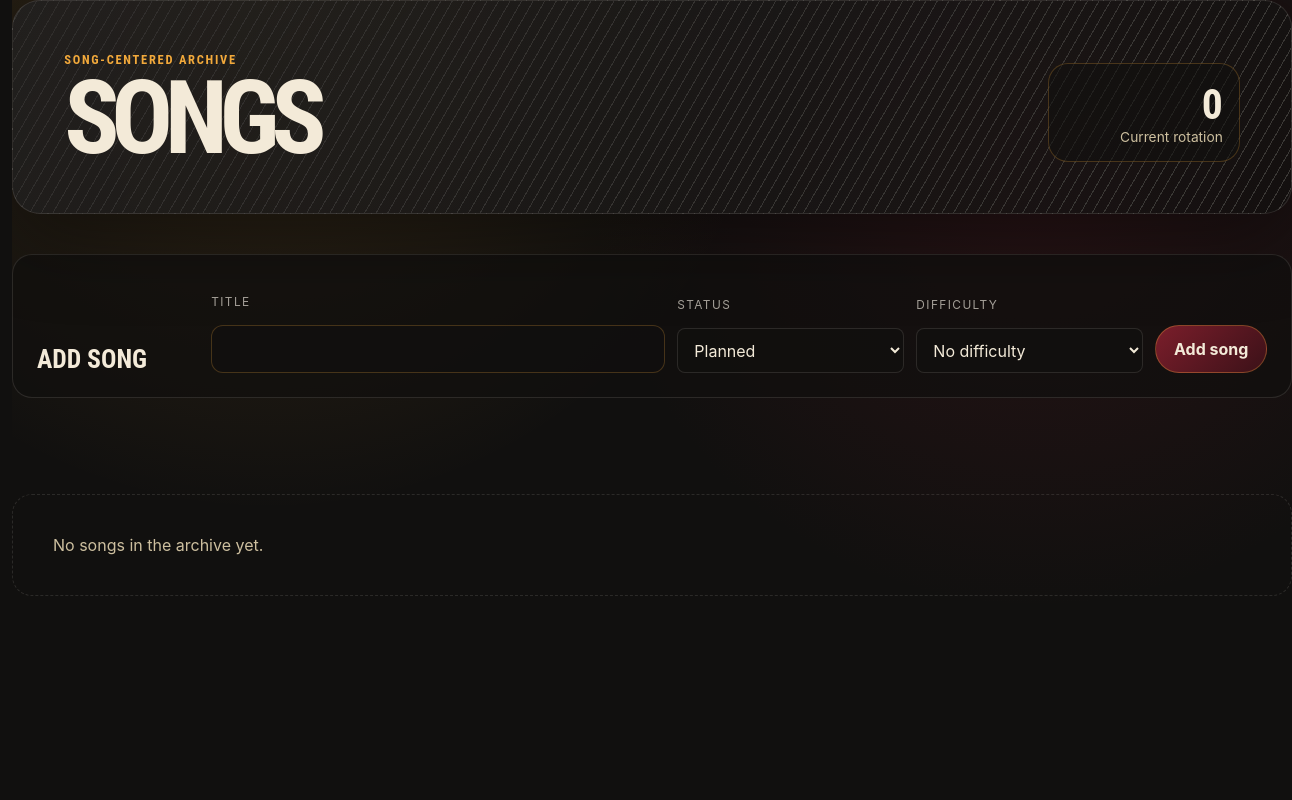
Test: SongListPage › creates a song and refreshes the list
The image size is (1292, 800).
Step 1. Type "Little Wing" into the field labelled "Title" → (438, 349), box [211,325,665,373]
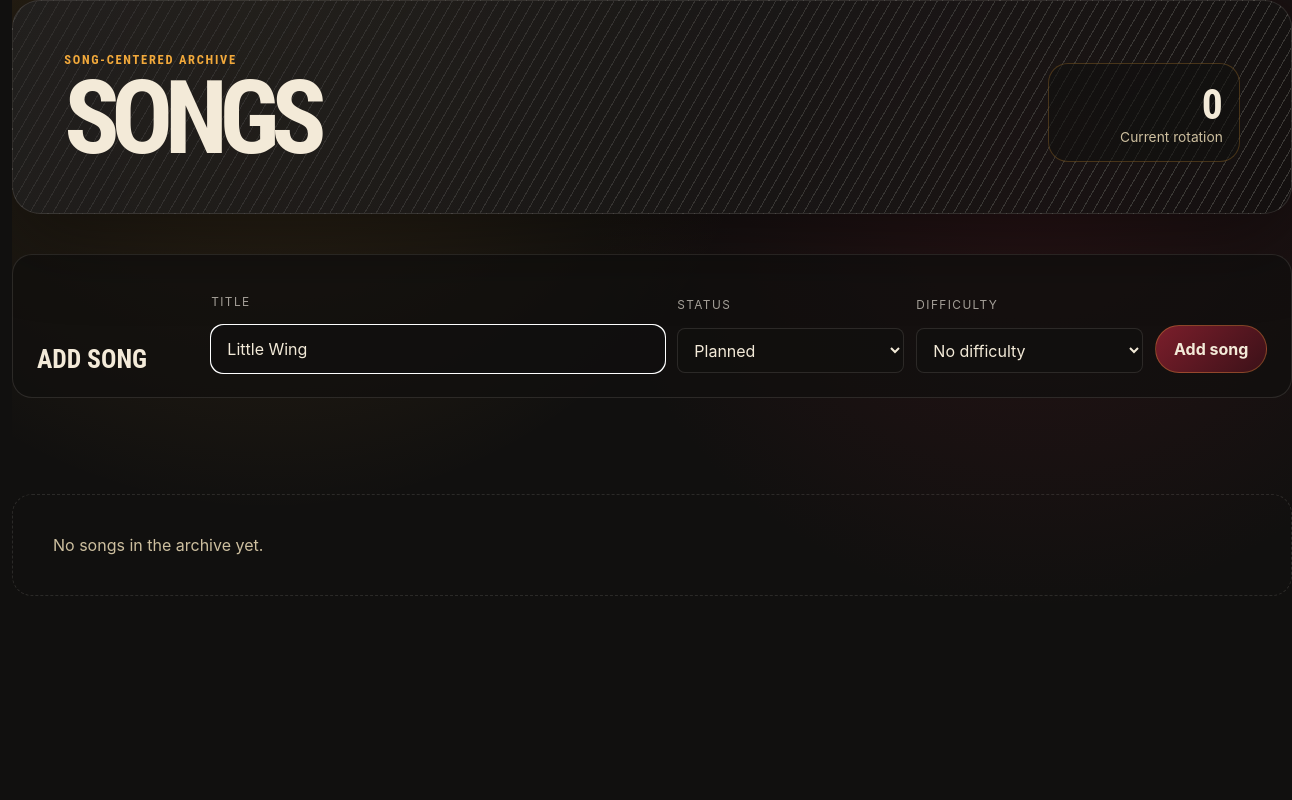
Step 2. Select "Learning" in the dropdown labelled "Status" → (791, 351), box [677,328,904,373]
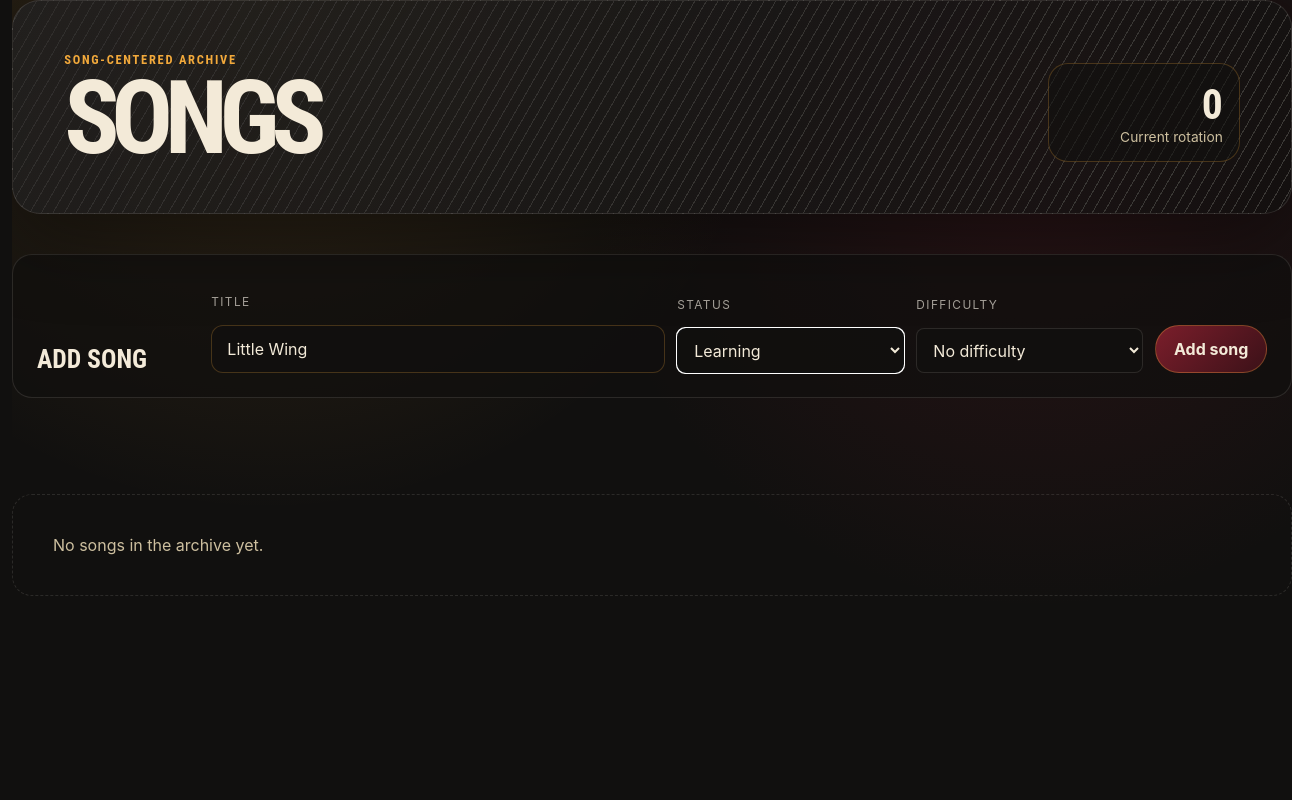
Step 3. Select "4" in the dropdown labelled "Difficulty" → (1030, 351), box [916,328,1144,373]
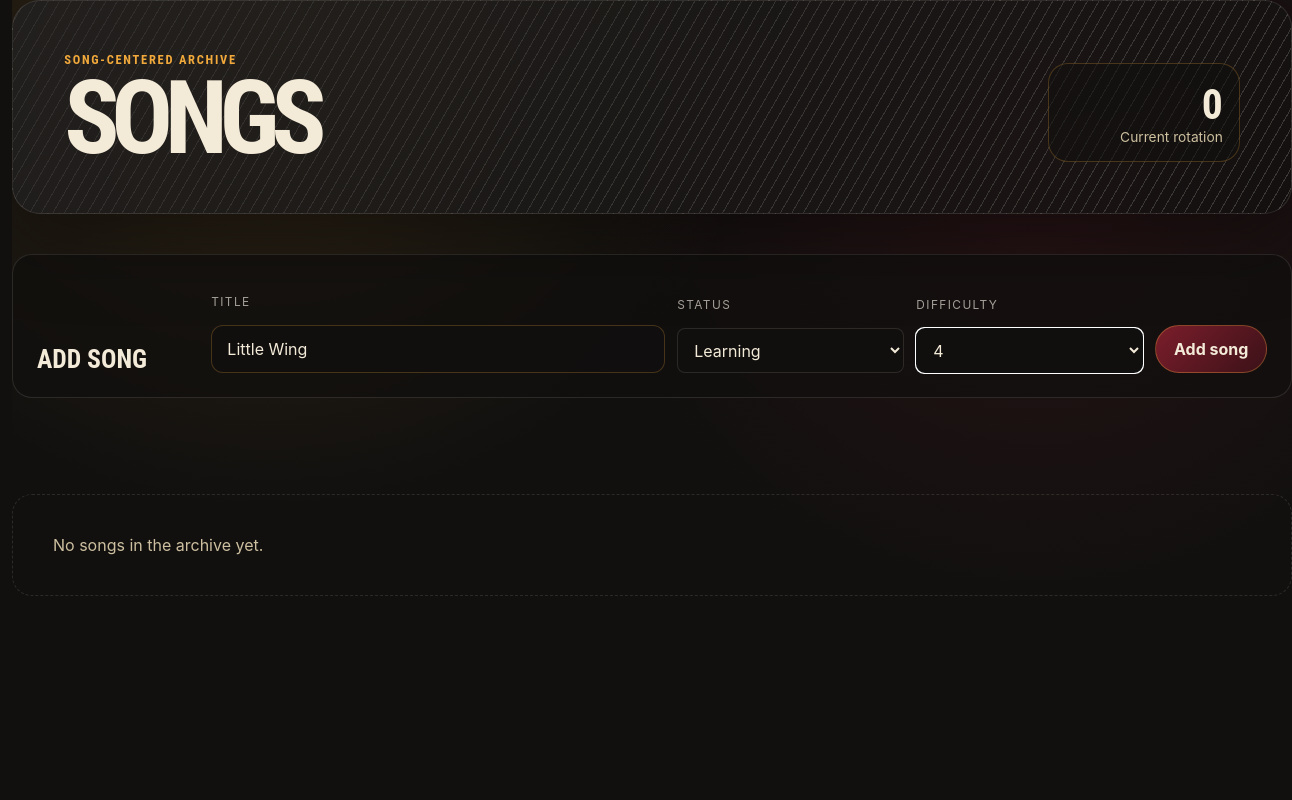
Step 4. Click the button "Add song" → (1211, 349), box [1155,325,1267,373]
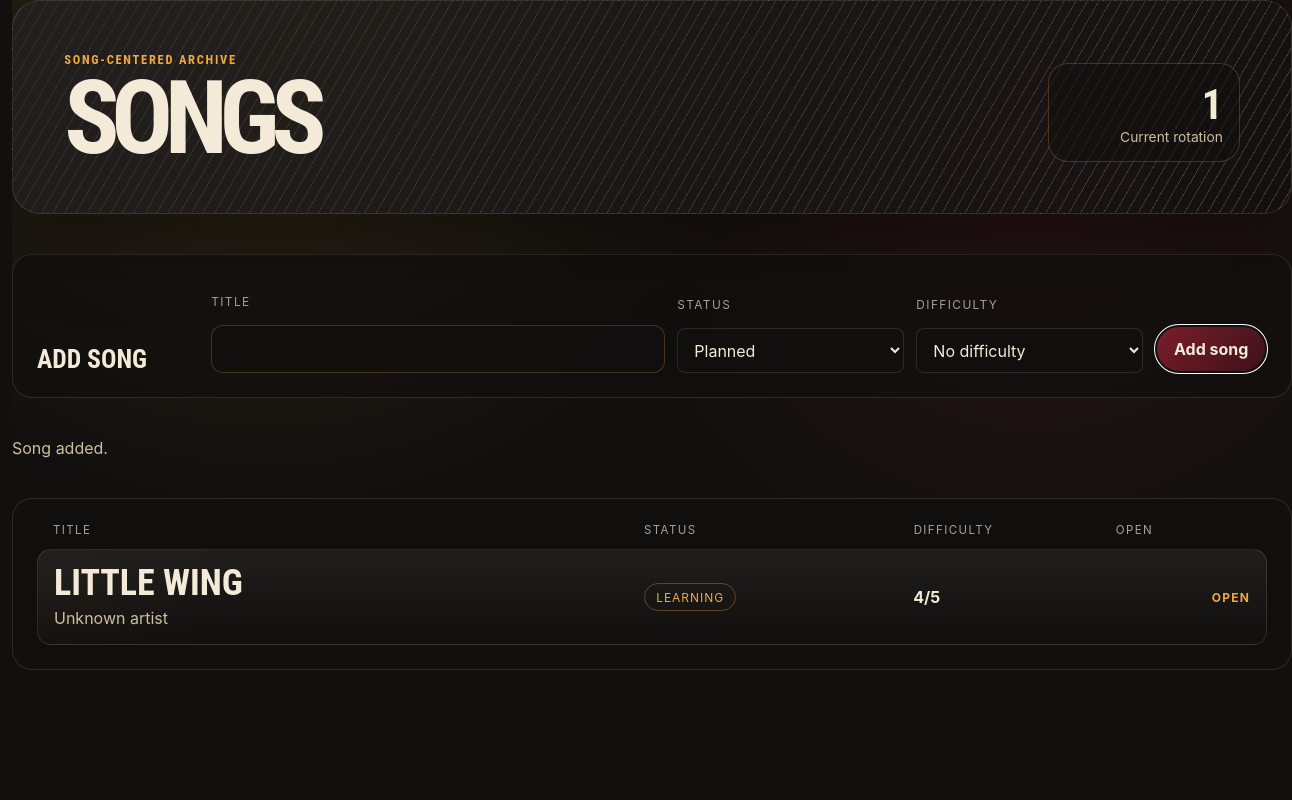
Expected: the text "Song added." is shown, [12,438,108,458]
Expected: the link "Little Wing" is shown, [54,562,243,604]
